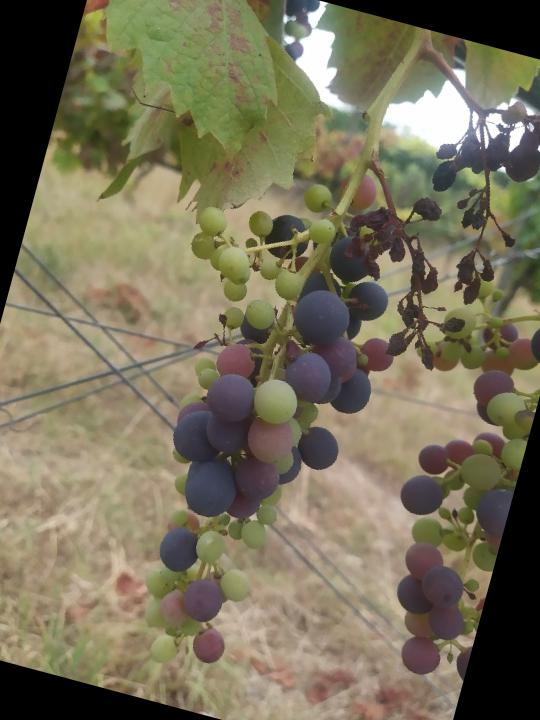grape: (76, 131, 497, 720), (399, 78, 540, 325)
